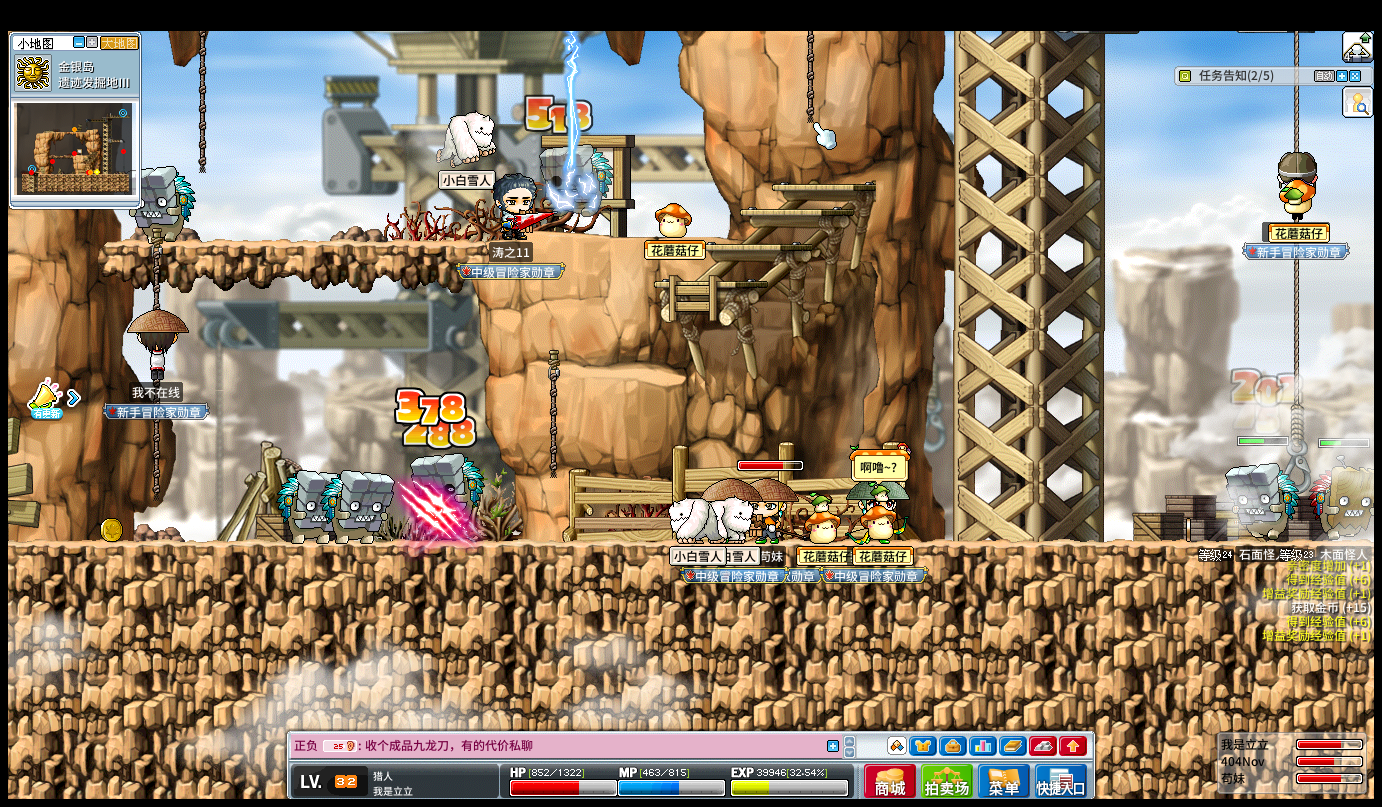floor: (8, 537, 1373, 549), (101, 238, 487, 250), (594, 364, 687, 387), (609, 234, 735, 242), (653, 281, 769, 288), (740, 209, 855, 216), (705, 244, 813, 251), (771, 184, 873, 191)
monster: (1225, 464, 1300, 539), (410, 453, 486, 525), (1309, 455, 1373, 540), (322, 470, 395, 544), (539, 145, 614, 217), (142, 166, 197, 245), (277, 470, 320, 543)
rope: (548, 350, 559, 479), (1293, 259, 1300, 405), (198, 30, 205, 173), (151, 228, 161, 310), (806, 31, 813, 123), (1294, 30, 1299, 152), (152, 421, 159, 501), (1291, 406, 1304, 439)
